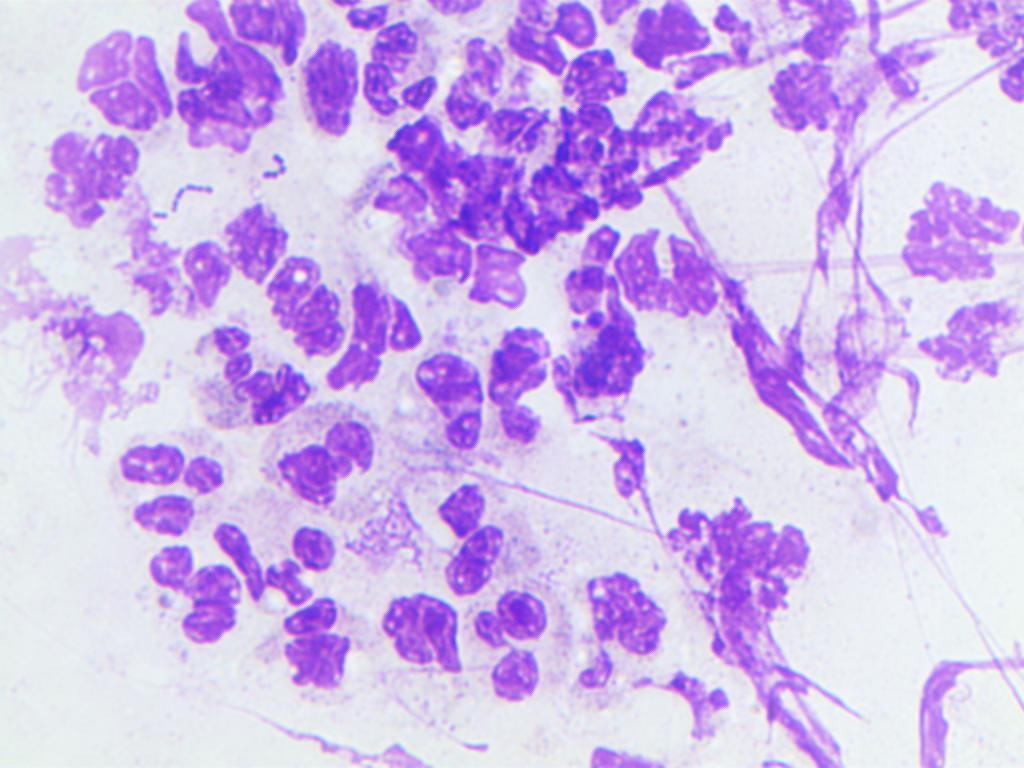neutrophil: (417, 25, 555, 167), (562, 552, 676, 702), (254, 398, 394, 506), (889, 178, 1024, 286), (73, 18, 184, 144), (109, 432, 236, 542), (473, 586, 581, 714), (181, 324, 317, 424), (267, 600, 376, 720), (607, 218, 728, 326), (171, 206, 294, 312), (133, 536, 242, 654), (471, 322, 566, 456), (217, 518, 349, 610), (37, 122, 141, 232), (916, 291, 1024, 395), (429, 484, 518, 604), (260, 233, 345, 357), (407, 347, 484, 478), (375, 578, 466, 684), (358, 18, 440, 132), (289, 28, 372, 140), (546, 41, 628, 110)
